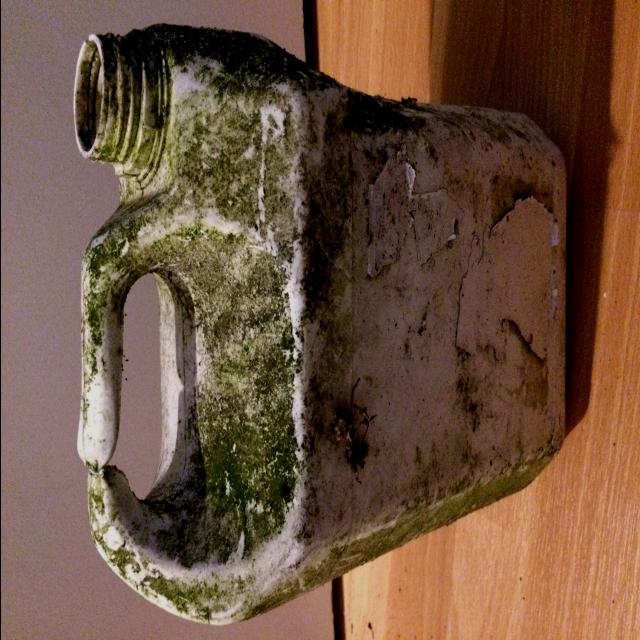Other plastic container: (73, 22, 565, 625)
